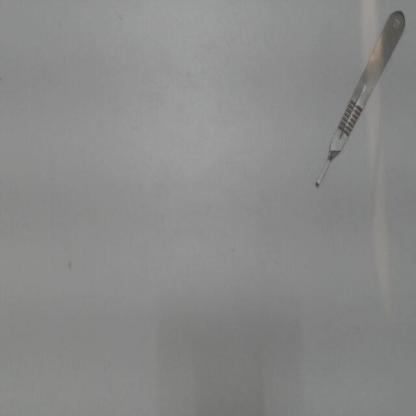No.3 BP Handle: (305, 9, 411, 196)
